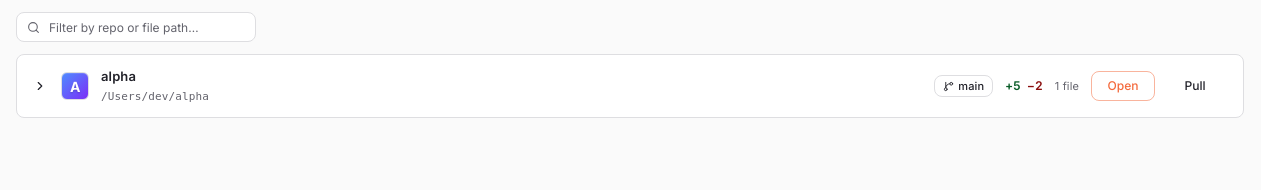
Test: ChangesPage › reveals the changed files only after expanding a row
Check: the text "src/alpha.ts" is not shown
Click the button with aria-label "expand changed files" at (119, 76), box [33,68,1227,102]
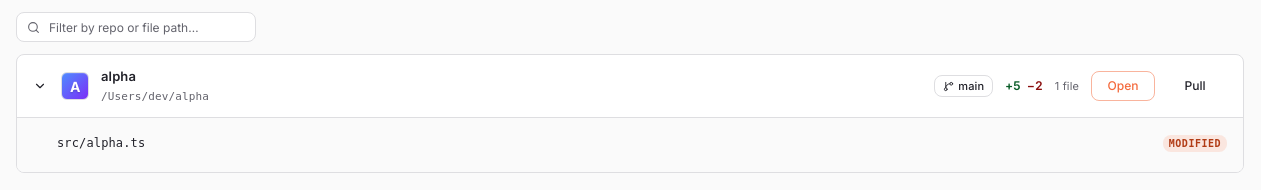
Check: the text "src/alpha.ts" is shown, box [57,134,145,152]
